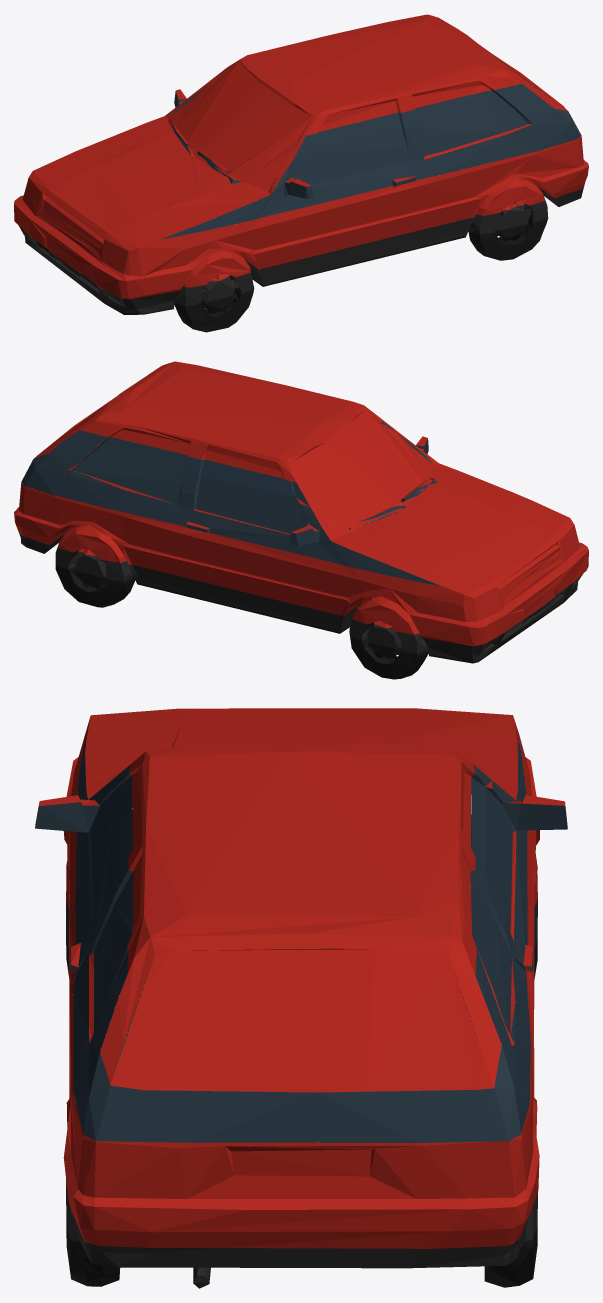
Rendered from hatch.glb.
3 renders of one model, top to bottom at view 1: azimuth 30°, elevation 25°; view 2: azimuth 150°, elevation 25°; view 3: azimuth 270°, elevation 25°, orthographic. The views are drawn at different scales.
Parts seen in each view (by area): view 1: body, detail; view 2: body, detail; view 3: body, detail.
Part boxes in pixels (<box>): body: <box>14,14,588,299</box>; detail: <box>19,79,583,332</box>; body: <box>14,361,588,646</box>; detail: <box>19,421,583,679</box>; body: <box>38,708,565,1248</box>; detail: <box>35,729,567,1288</box>.
Bounding box in the file's own units: 2.14 × 0.7801 × 1.04.
